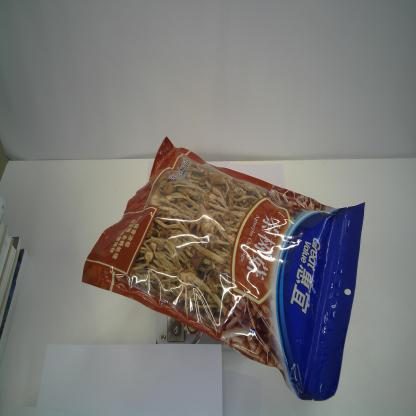Dried Food: (78, 133, 367, 407)
